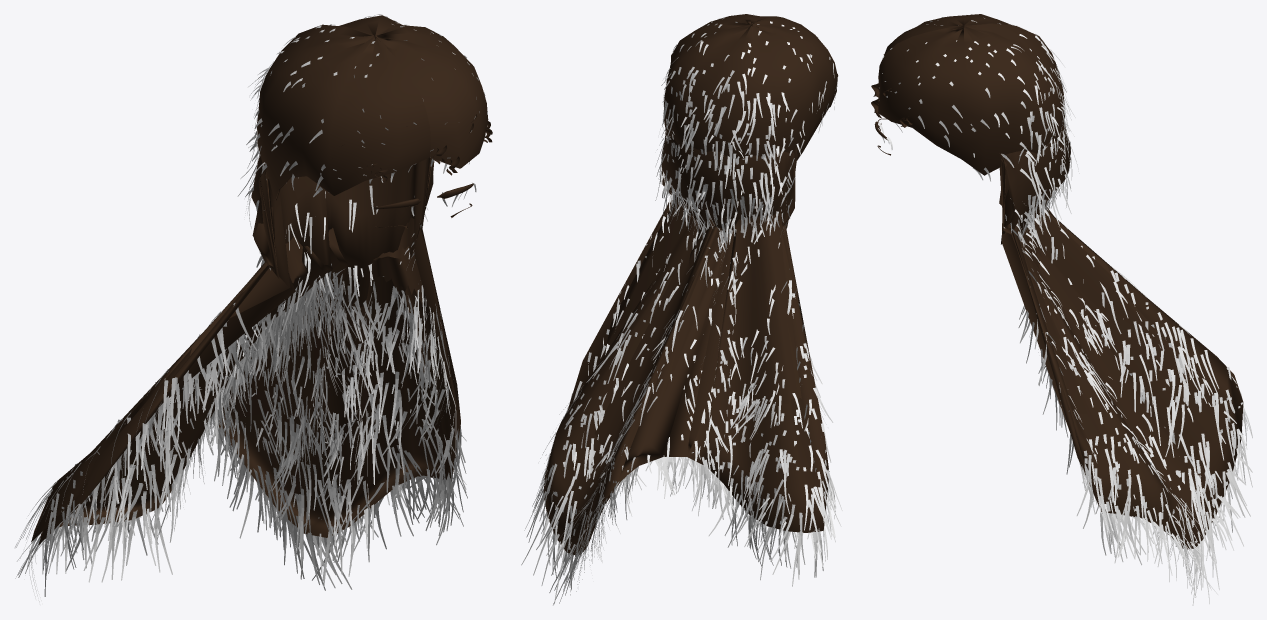
The model's file is hair-runekeeper-long.glb.
3 views of the same model, side by side, from view 1: azimuth 30°, elevation 25°; view 2: azimuth 150°, elevation 25°; view 3: azimuth 270°, elevation 25° (orthographic). The views are drawn at different scales.
Visible parts, largest first — view 1: hair-runekeeper-long_1, hair__strands; view 2: hair-runekeeper-long_1, hair__strands; view 3: hair-runekeeper-long_1, hair__strands.
Part boxes in pixels (x1,y1,x2,y2): hair-runekeeper-long_1: [31, 15, 492, 545]; hair__strands: [15, 14, 487, 602]; hair-runekeeper-long_1: [543, 14, 838, 554]; hair__strands: [521, 14, 842, 605]; hair-runekeeper-long_1: [871, 14, 1243, 549]; hair__strands: [878, 14, 1252, 605].
Bounding box in the file's own units: 0.4475 × 0.7065 × 0.4549.
